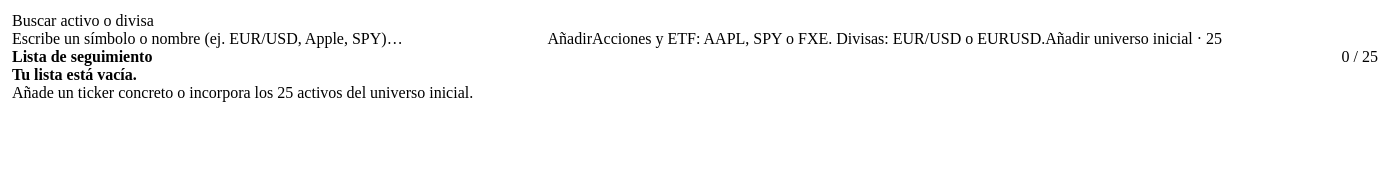
Watchlist › gestiona errores de red o fallo en el alta sin romper la interfaz y conserva el texto
Type "AAPL" into the field labelled "Buscar activo o divisa" at (280, 39), box [12,30,548,48]
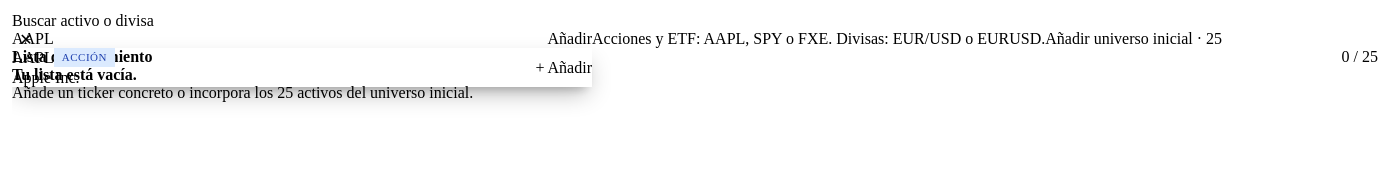
Click the button "Añadir" at (570, 39), box [548,30,592,48]
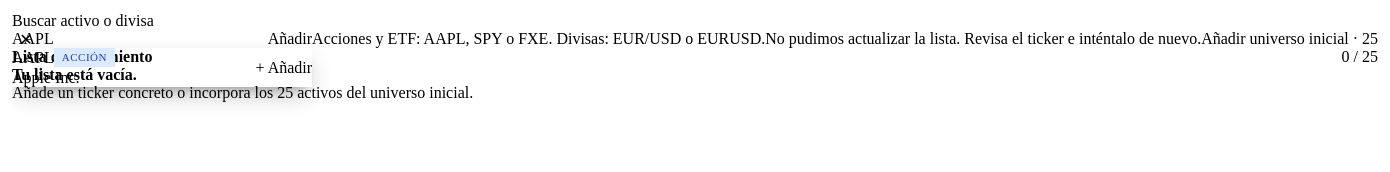
Check: the message shows "No pudimos actualizar la lista", box [765,30,1201,47]
